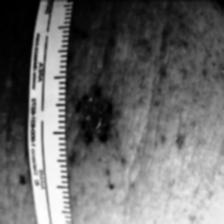Potentially Malignant Skin Tumors: (74, 81, 114, 145)
